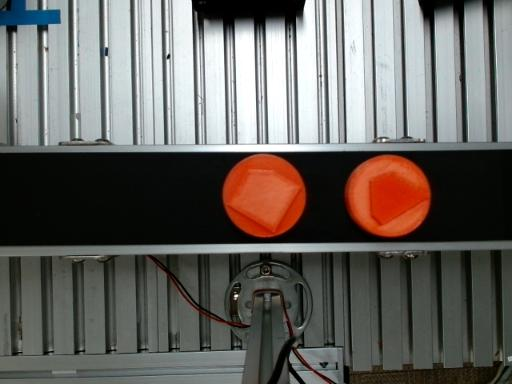Not_Square: (226, 167, 303, 233), (369, 170, 432, 228)
Orange_Waper: (345, 155, 431, 237), (222, 154, 306, 237)
